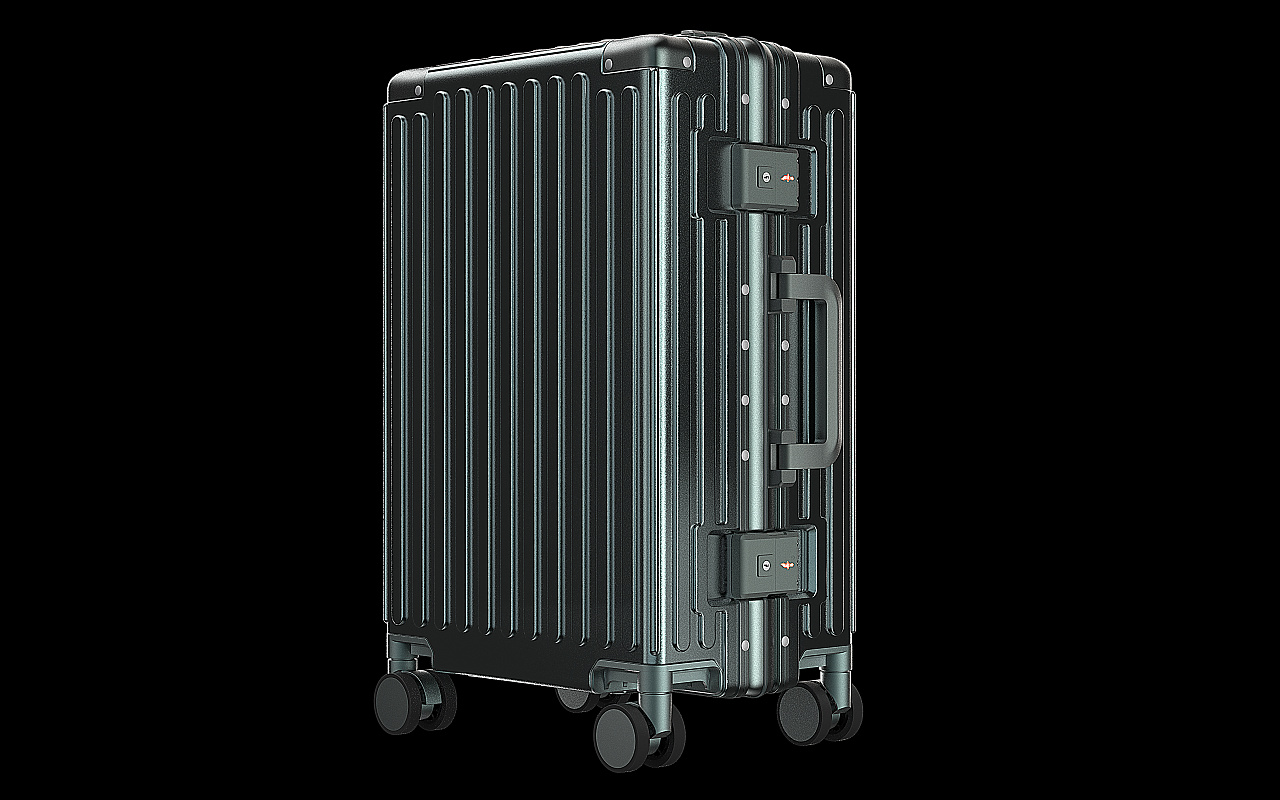box: (379, 31, 856, 698)
handle: (765, 255, 845, 486)
lock: (730, 142, 799, 214), (732, 530, 802, 599)
wheel: (592, 702, 688, 774), (775, 682, 863, 749), (371, 671, 456, 734)
